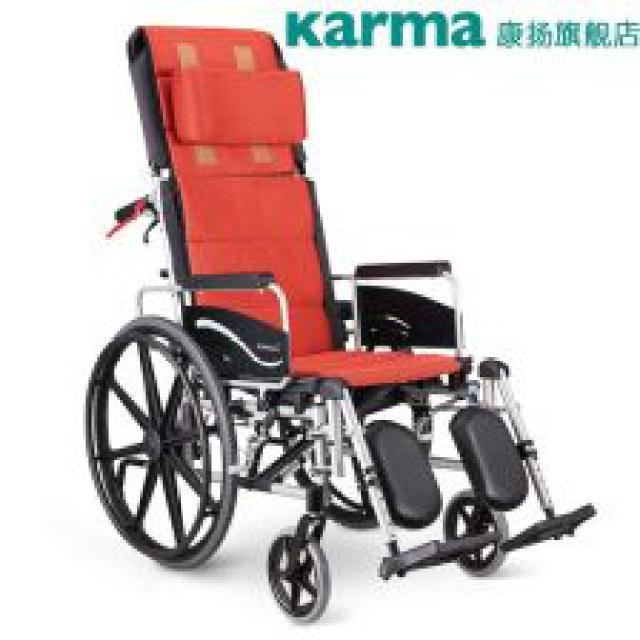wheelchair: (66, 20, 603, 623)
